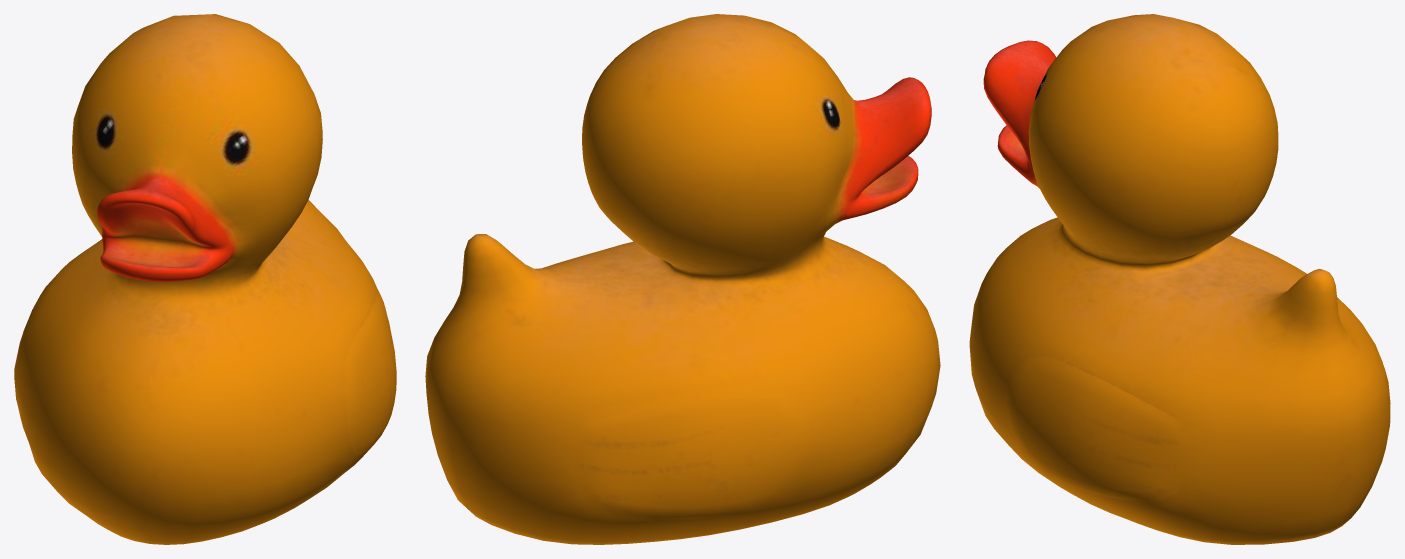
Rendered from duck.glb.
3 renders of one model, left to right at view 1: azimuth 30°, elevation 25°; view 2: azimuth 150°, elevation 25°; view 3: azimuth 270°, elevation 25°, orthographic. The views are drawn at different scales.
Parts seen in each view (by area): view 1: rubber_duck_toy; view 2: rubber_duck_toy; view 3: rubber_duck_toy.
Part boxes in pixels (box(x1,y1,x2,y2)): rubber_duck_toy: box(14, 14, 396, 544); rubber_duck_toy: box(425, 14, 940, 544); rubber_duck_toy: box(969, 14, 1390, 544).
Bounding box in the file's own units: 0.9648 × 1.11 × 0.9637.
1 material, 1 textured.
